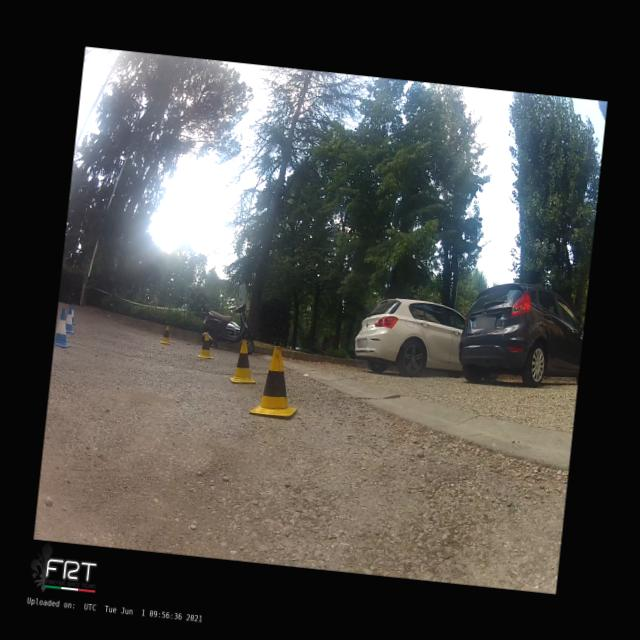blue_cone: (54, 306, 74, 348), (63, 305, 76, 334), (70, 302, 78, 324)
yellow_cone: (248, 344, 304, 418), (228, 338, 258, 386), (196, 330, 217, 359), (159, 324, 172, 344)
